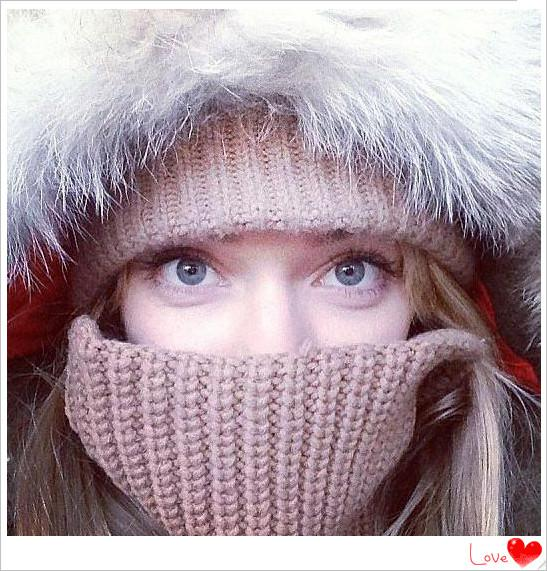WRONG: (125, 226, 417, 518)
